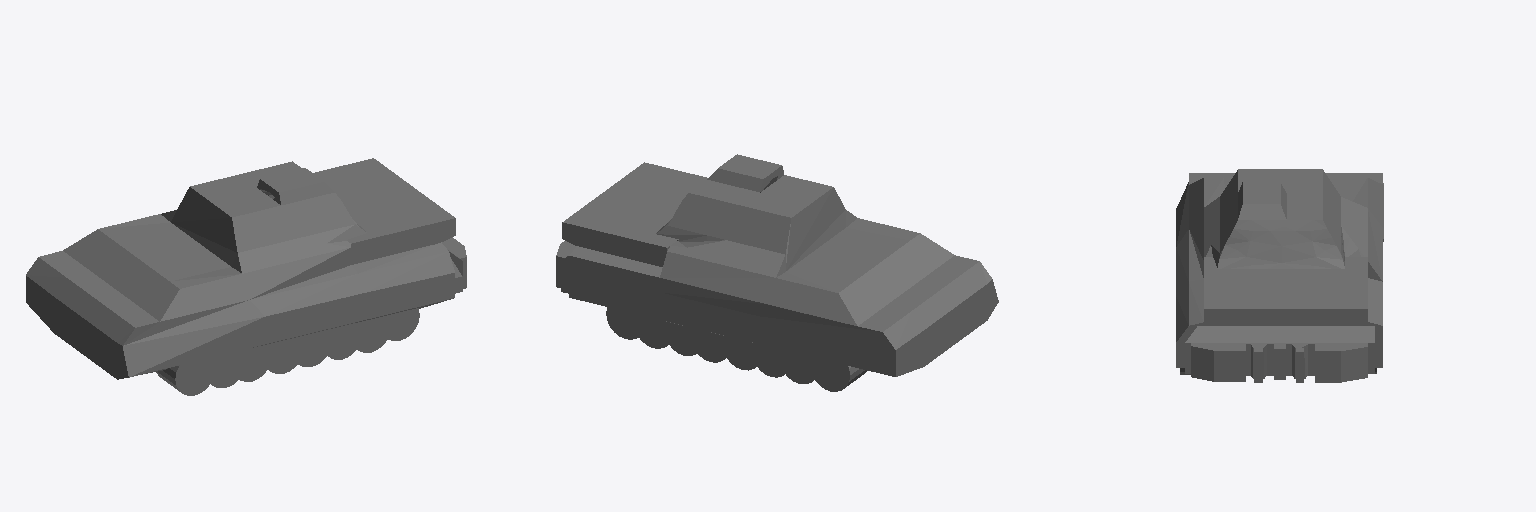
File: PantherTankBodyAndWheels.obj
The picture shows the model from 3 angles: view 1: azimuth 30°, elevation 25°; view 2: azimuth 150°, elevation 25°; view 3: azimuth 270°, elevation 25°; orthographic projection.
Parts seen in each view (by area): view 1: PantherTank:default1, pCylinder4, pCylinder21, pCylinder17, pCylinder19, pCylinder23, pCylinder20, pCylinder18, pCylinder22; view 2: PantherTank:default1, pCylinder6, pCylinder12, pCylinder16, pCylinder10, pCylinder14, pCylinder13, pCylinder15, pCylinder11; view 3: PantherTank:default1.
Part boxes in pixels (left/top/right/bottom): PantherTank:default1: left=26, top=158, right=466, bottom=379; pCylinder4: left=156, top=358, right=213, bottom=395; pCylinder21: left=323, top=323, right=361, bottom=359; pCylinder17: left=206, top=350, right=245, bottom=387; pCylinder19: left=264, top=337, right=302, bottom=373; pCylinder23: left=380, top=308, right=419, bottom=340; pCylinder20: left=292, top=330, right=329, bottom=366; pCylinder18: left=232, top=344, right=270, bottom=381; pCylinder22: left=351, top=316, right=390, bottom=352; PantherTank:default1: left=556, top=154, right=998, bottom=376; pCylinder6: left=811, top=358, right=866, bottom=391; pCylinder12: left=723, top=337, right=761, bottom=370; pCylinder16: left=606, top=307, right=645, bottom=339; pCylinder10: left=780, top=350, right=818, bottom=383; pCylinder14: left=668, top=322, right=703, bottom=355; pCylinder13: left=692, top=330, right=729, bottom=362; pCylinder15: left=639, top=316, right=673, bottom=348; pCylinder11: left=752, top=344, right=790, bottom=377; PantherTank:default1: left=1176, top=169, right=1383, bottom=382.
Bounding box in the file's own units: 18.03 × 7.3 × 9.04.